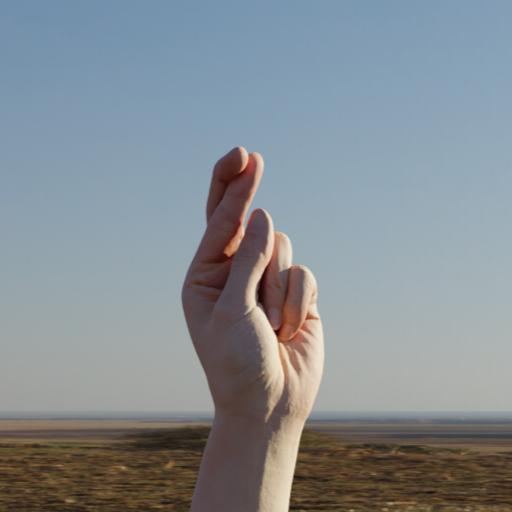R: (169, 132, 348, 440)
